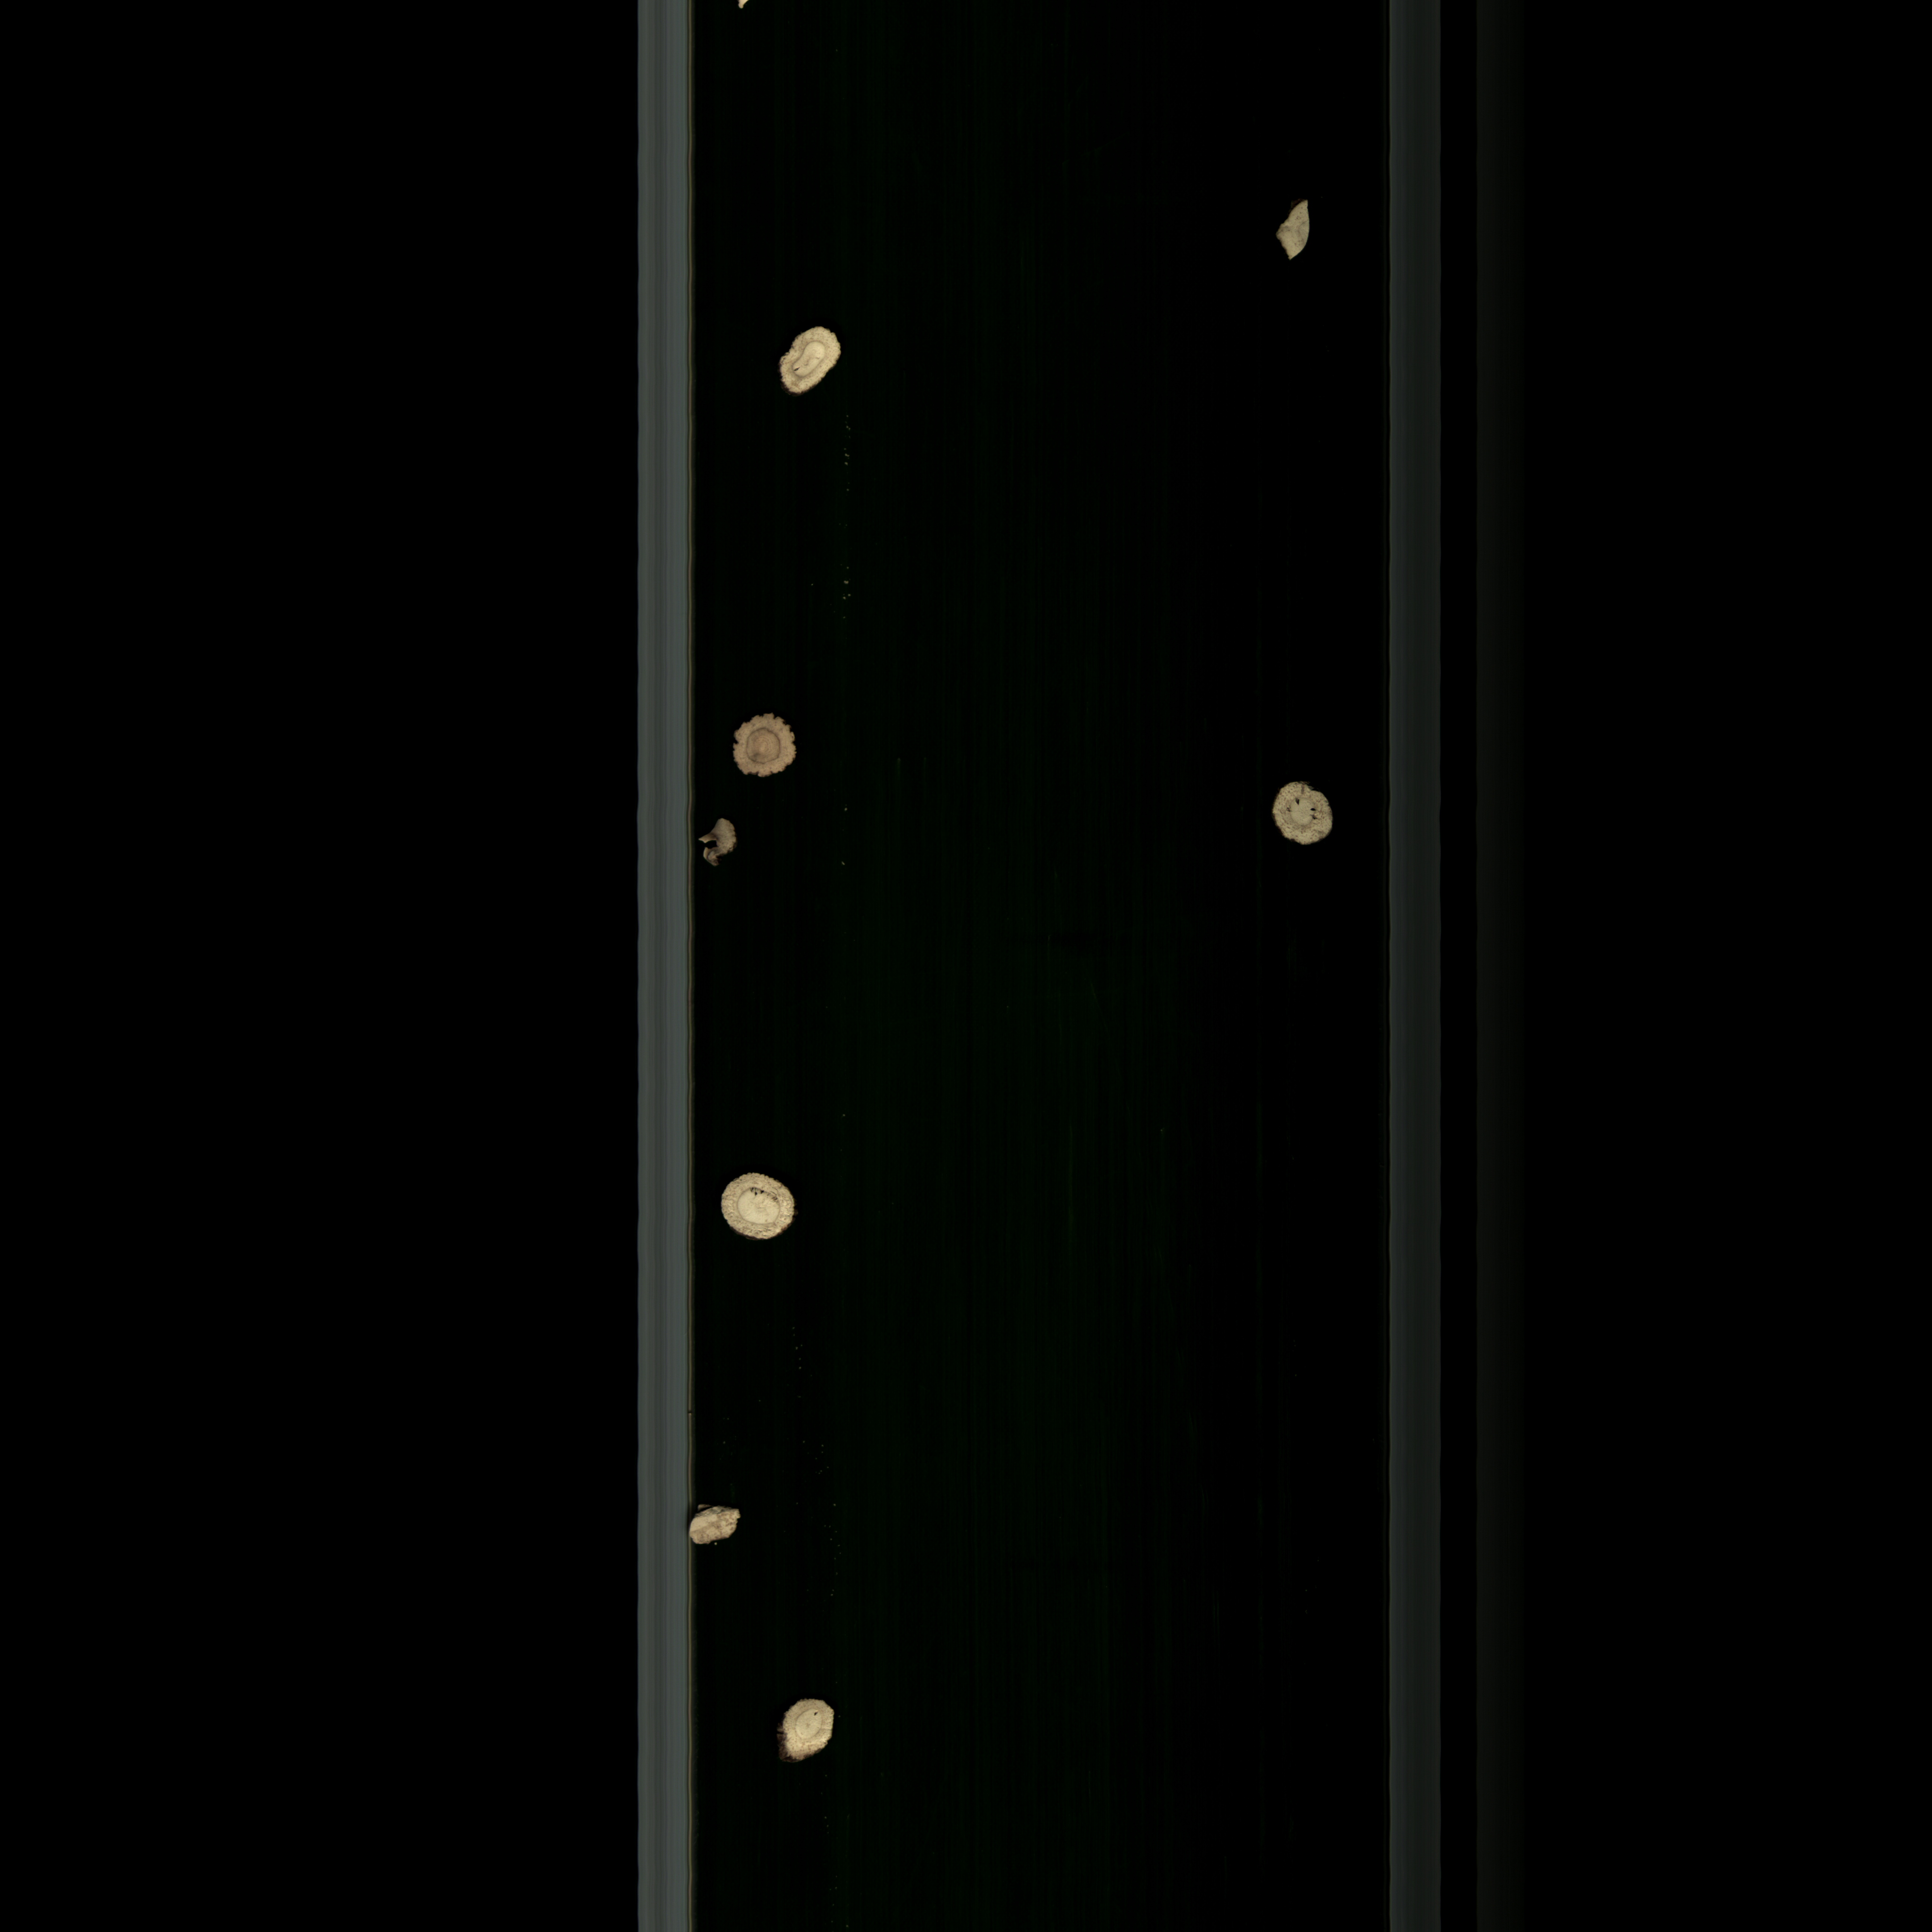debris: (1274, 195, 1320, 269)
distortion: (770, 1688, 846, 1783), (771, 317, 844, 400), (686, 1499, 754, 1550)
hole: (713, 1159, 817, 1256), (1261, 763, 1341, 860)
moldy: (729, 702, 807, 787), (699, 810, 747, 878)
